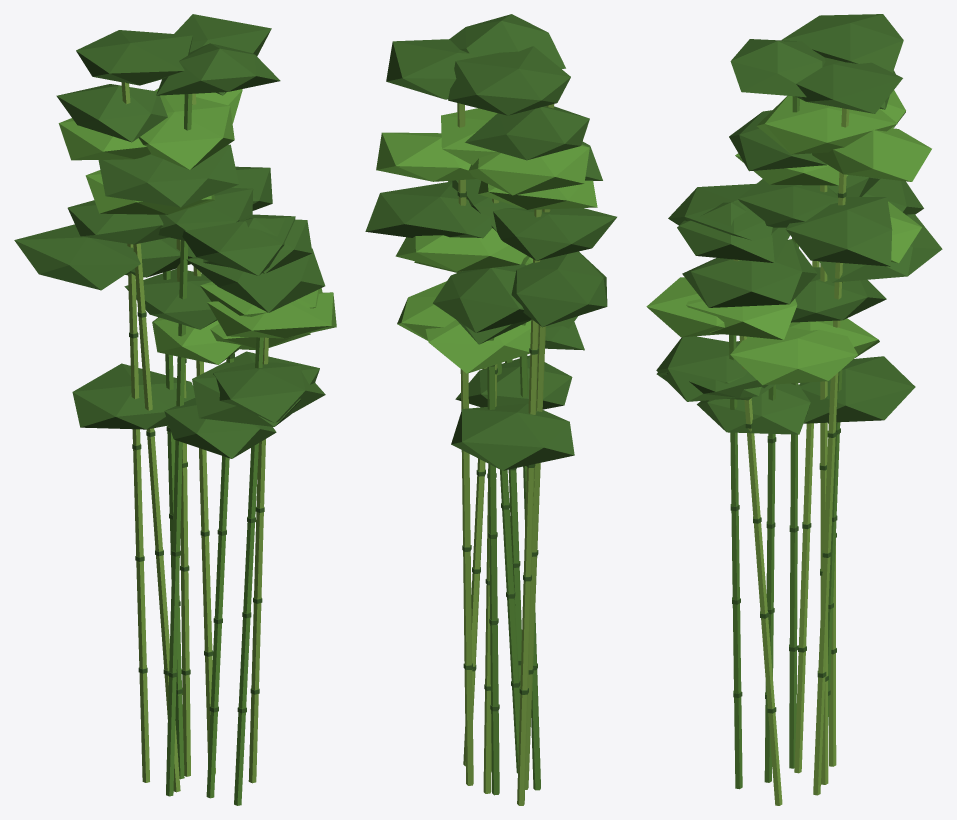
Rendered from bambu_1.glb.
The picture shows the model from 3 angles, left to right: view 1: azimuth 30°, elevation 25°; view 2: azimuth 150°, elevation 25°; view 3: azimuth 270°, elevation 25°; orthographic projection.
Visible parts, largest first — view 1: bambu_1; view 2: bambu_1; view 3: bambu_1.
Part boxes in pixels (x1,y1,x2,y2): bambu_1: [14, 14, 336, 805]; bambu_1: [365, 14, 616, 805]; bambu_1: [646, 14, 942, 805].
Size of the model in its own units: 4.67 by 14.33 by 5.15.
